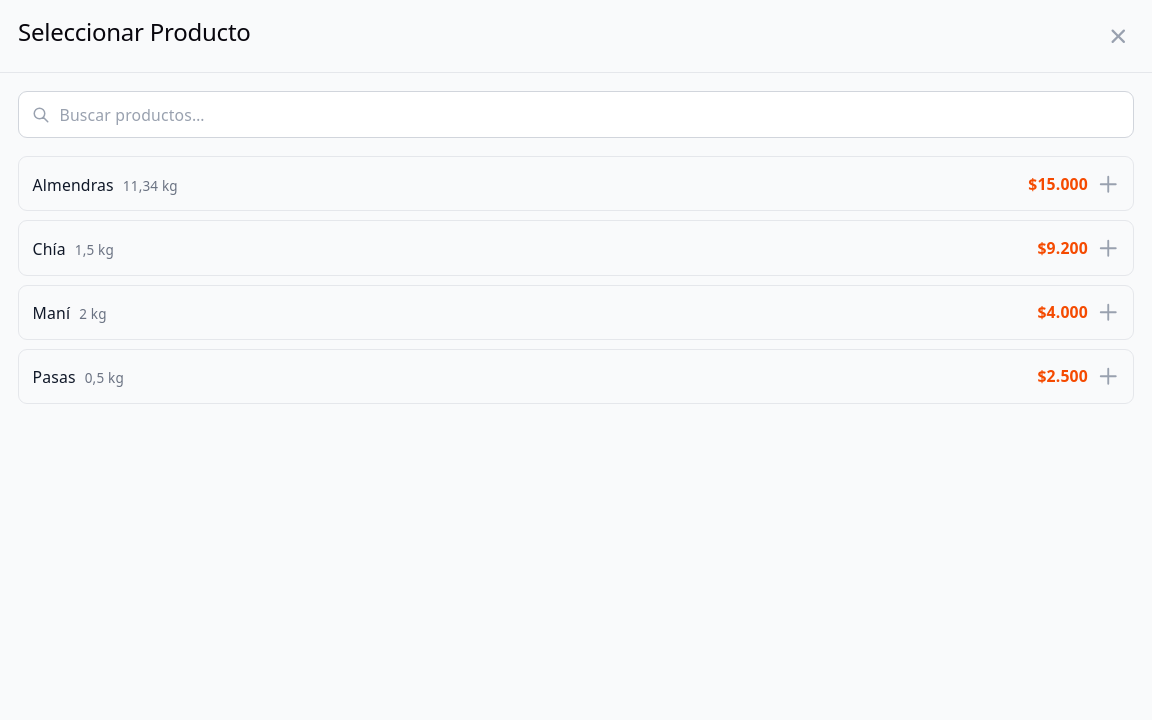
Test: QuoteProductSelector › should show no results message when search has no matches
In the field with placeholder "Buscar productos…": (576, 115) [18,91,1134,138], type "xyz"
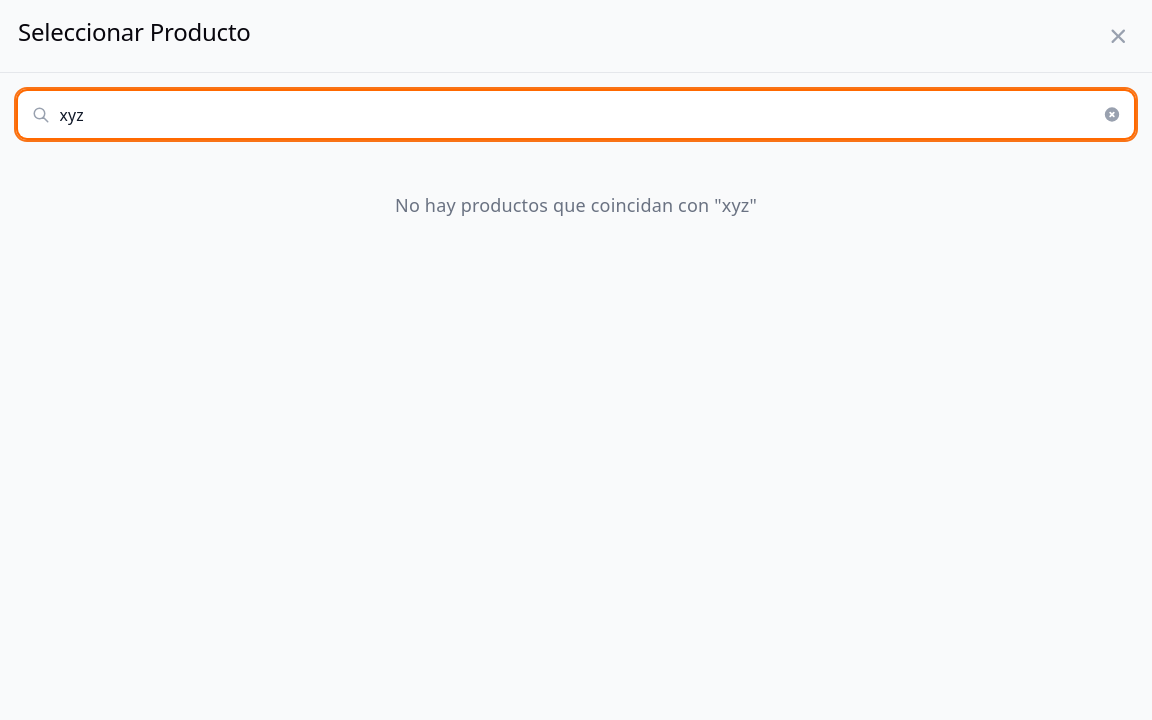
Now the text "No hay productos que coincidan con \"xyz\"" is shown, box [395,193,757,217]
